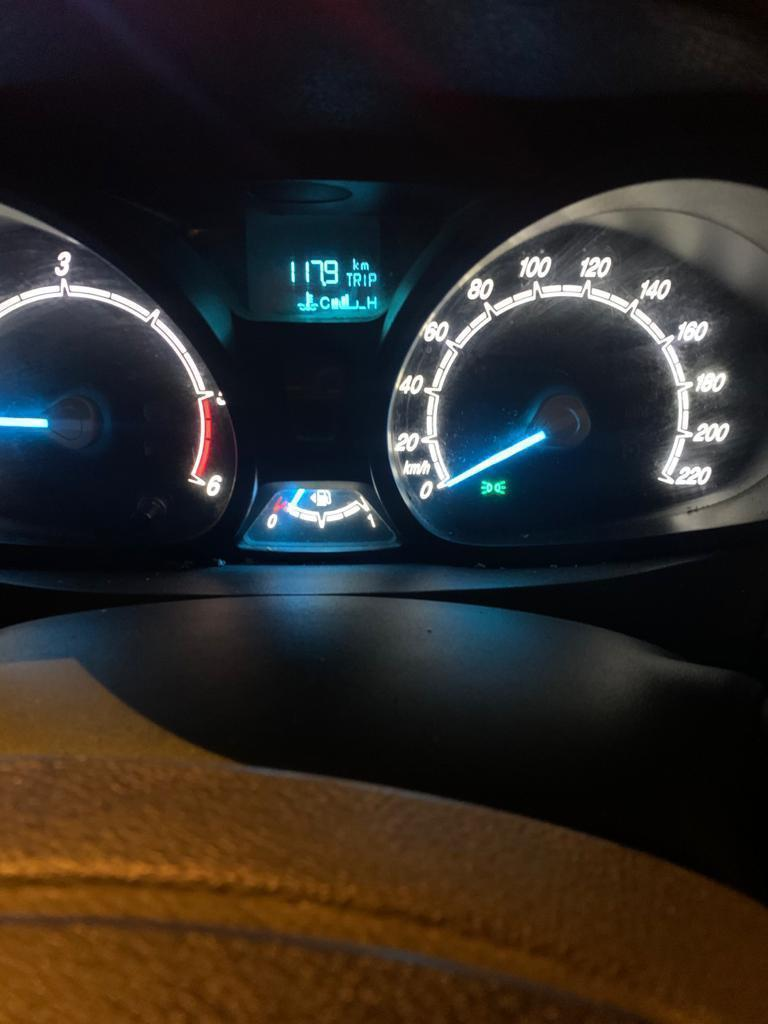,: (320, 280, 326, 288)
1: (287, 256, 297, 288), (301, 257, 309, 287)
7: (310, 258, 324, 282)
9: (324, 259, 340, 285)
X: (367, 271, 378, 288), (366, 295, 377, 310), (352, 271, 361, 288), (319, 295, 329, 310), (345, 271, 352, 287), (362, 272, 368, 289), (352, 256, 359, 270), (360, 260, 368, 270)
odometer: (263, 238, 387, 319)
